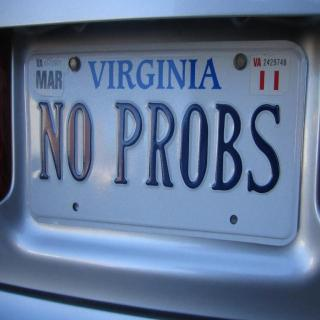license: (26, 45, 308, 247)
